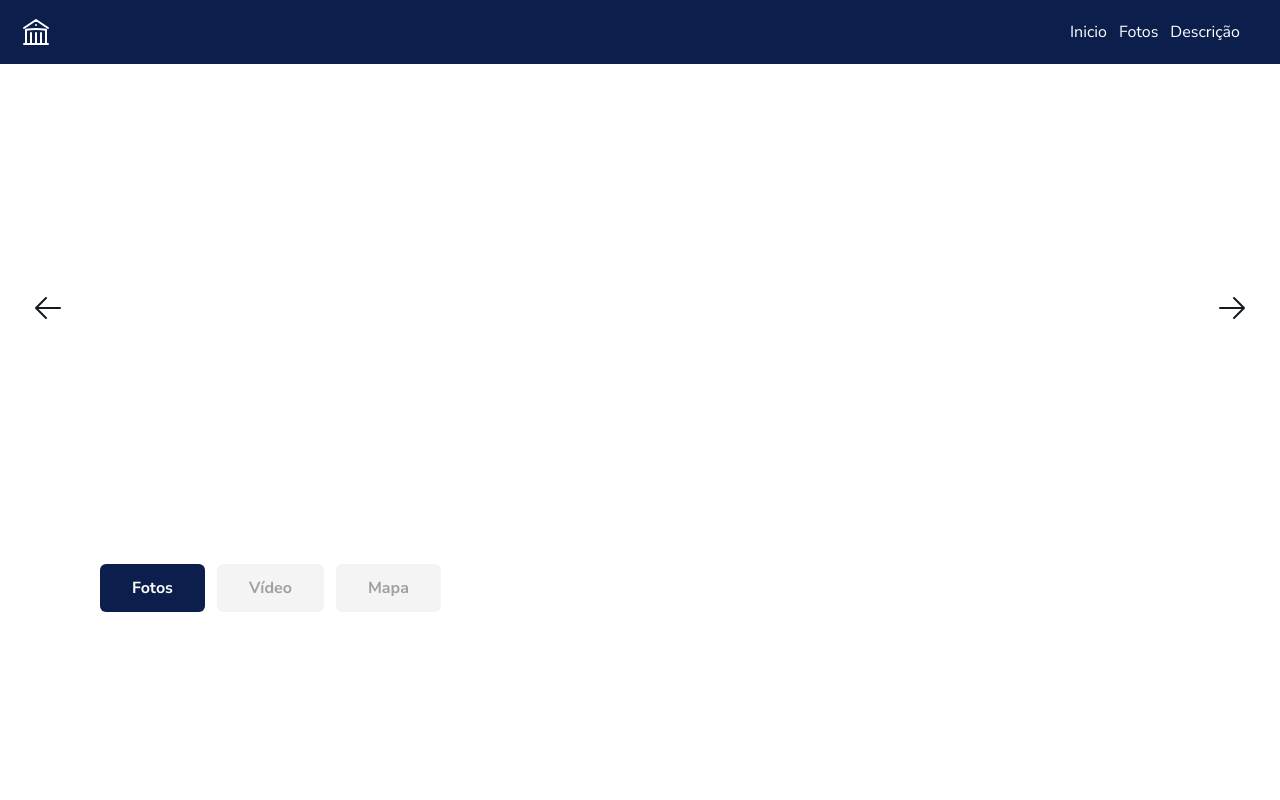
Dever renderizar o template Header › Deve executar as ações ao clicar nos botôes corretamente › Deve renderizar o component Vídeo ao clicar no botão "Vídeo" › Deve renderizar o Vídeo
Click the button with test id "btn-open-video" at (270, 588), box [217,564,324,612]
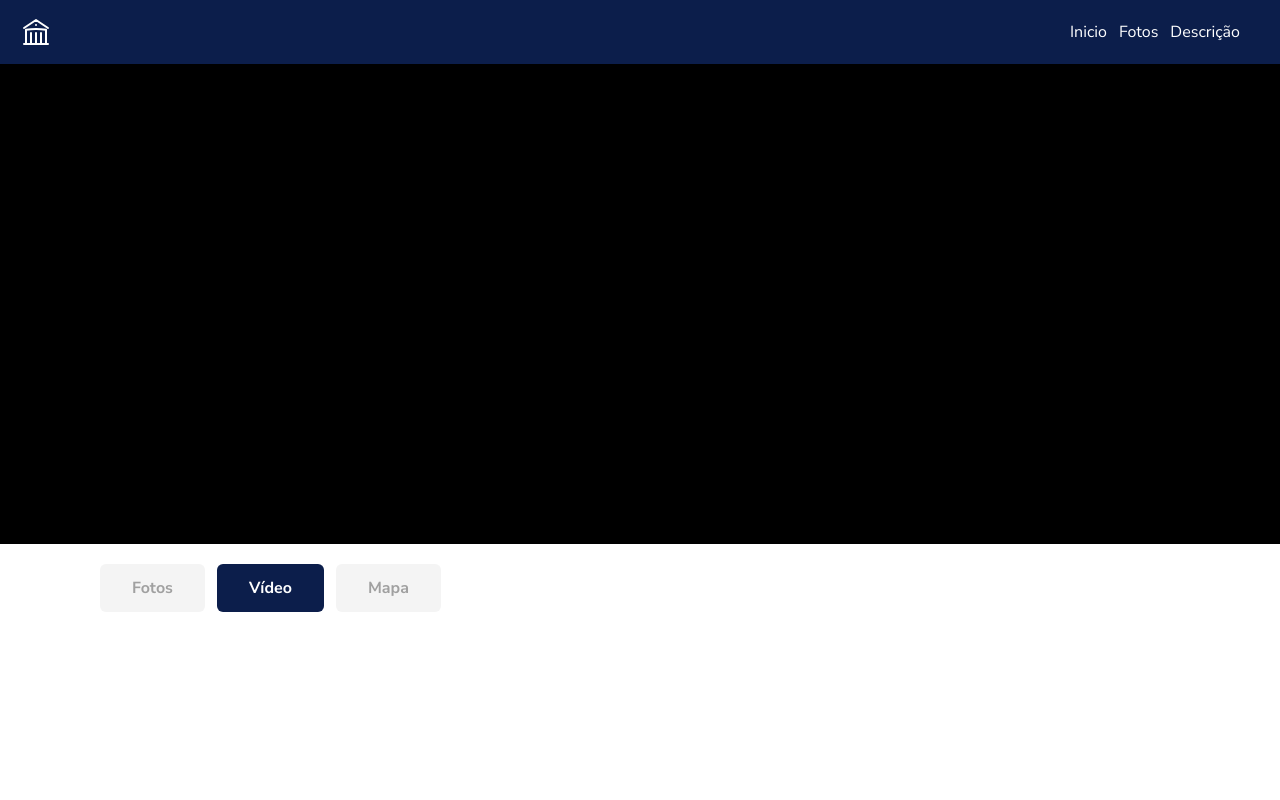
Check: the element with test id "component-video" is shown, box [0,64,1279,544]
